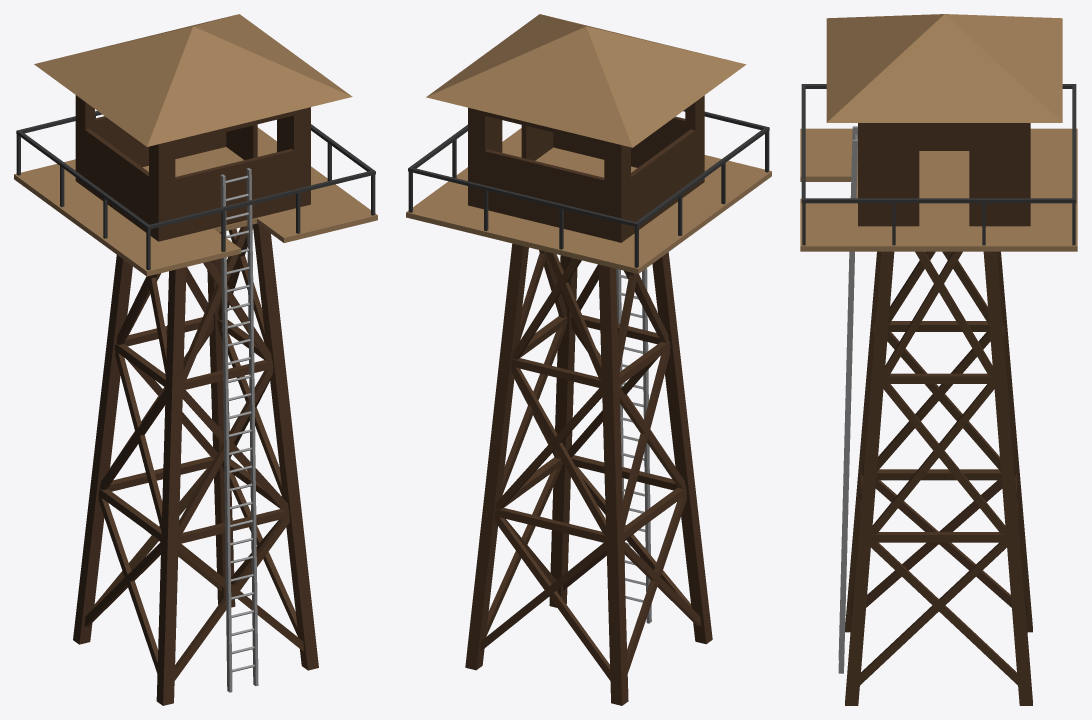
File: WatchTower.fbx
3 renders of one model, left to right at view 1: azimuth 30°, elevation 25°; view 2: azimuth 150°, elevation 25°; view 3: azimuth 270°, elevation 25°, orthographic. The views are drawn at different scales.
Visible parts, largest first — view 1: WatchTower; view 2: WatchTower; view 3: WatchTower.
Boxes of the visible parts, bbox=[...] form: WatchTower: bbox=[14, 14, 377, 705]; WatchTower: bbox=[406, 14, 771, 705]; WatchTower: bbox=[800, 14, 1077, 705].
Bounding box in the file's own units: 468 × 466 × 1211.
